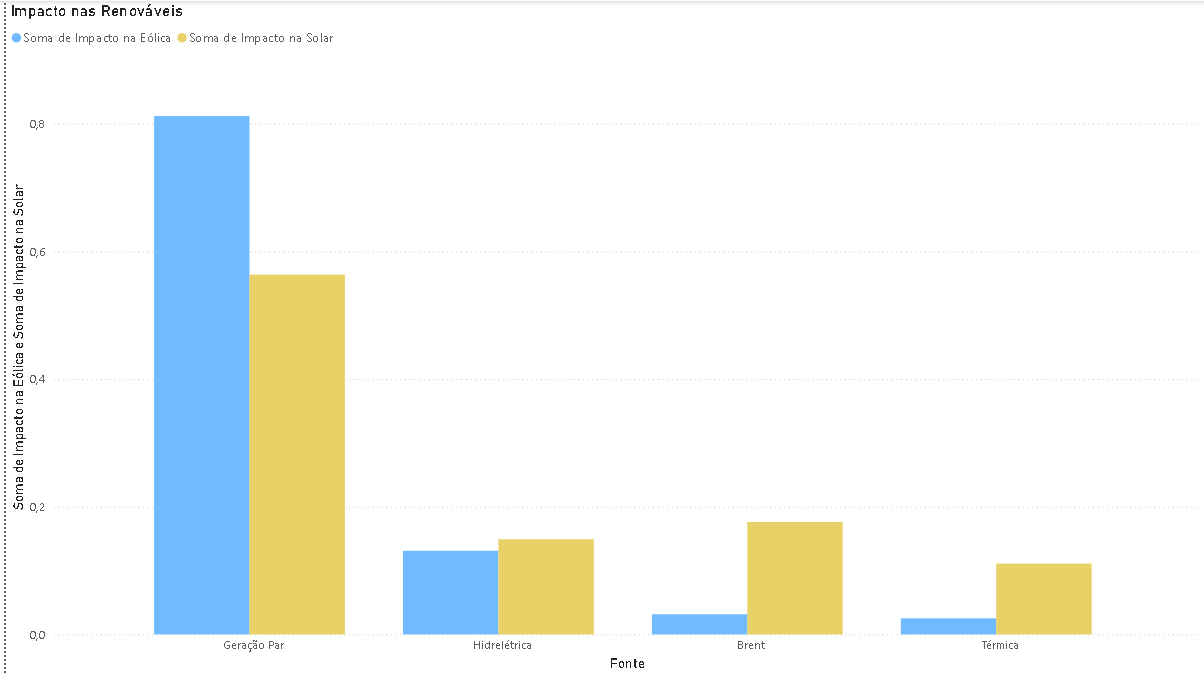

The dashboard page shown, as its layout file describes it:
{"tool":"powerbi","page":{"name":"Feature Importance","canvas":[1280,720],"ordinal":1},"visuals":[{"type":"clusteredColumnChart","title":"Impacto nas Renováveis","fields":{"Category":["tab_machine_learning.Fonte"],"Y":["Sum(tab_machine_learning.Impacto na Eólica)","Sum(tab_machine_learning.Impacto na Solar)"]},"box":[0,0,1280,720],"z":0}]}

Visuals, with their boxes in screenshot pixels (x1, y1, x2, y2), scaled from the page's 1280x720 canvas onto the 1204x673 screenshot:
"Impacto nas Renováveis" clusteredColumnChart: crop(0, 0, 1203, 672)
